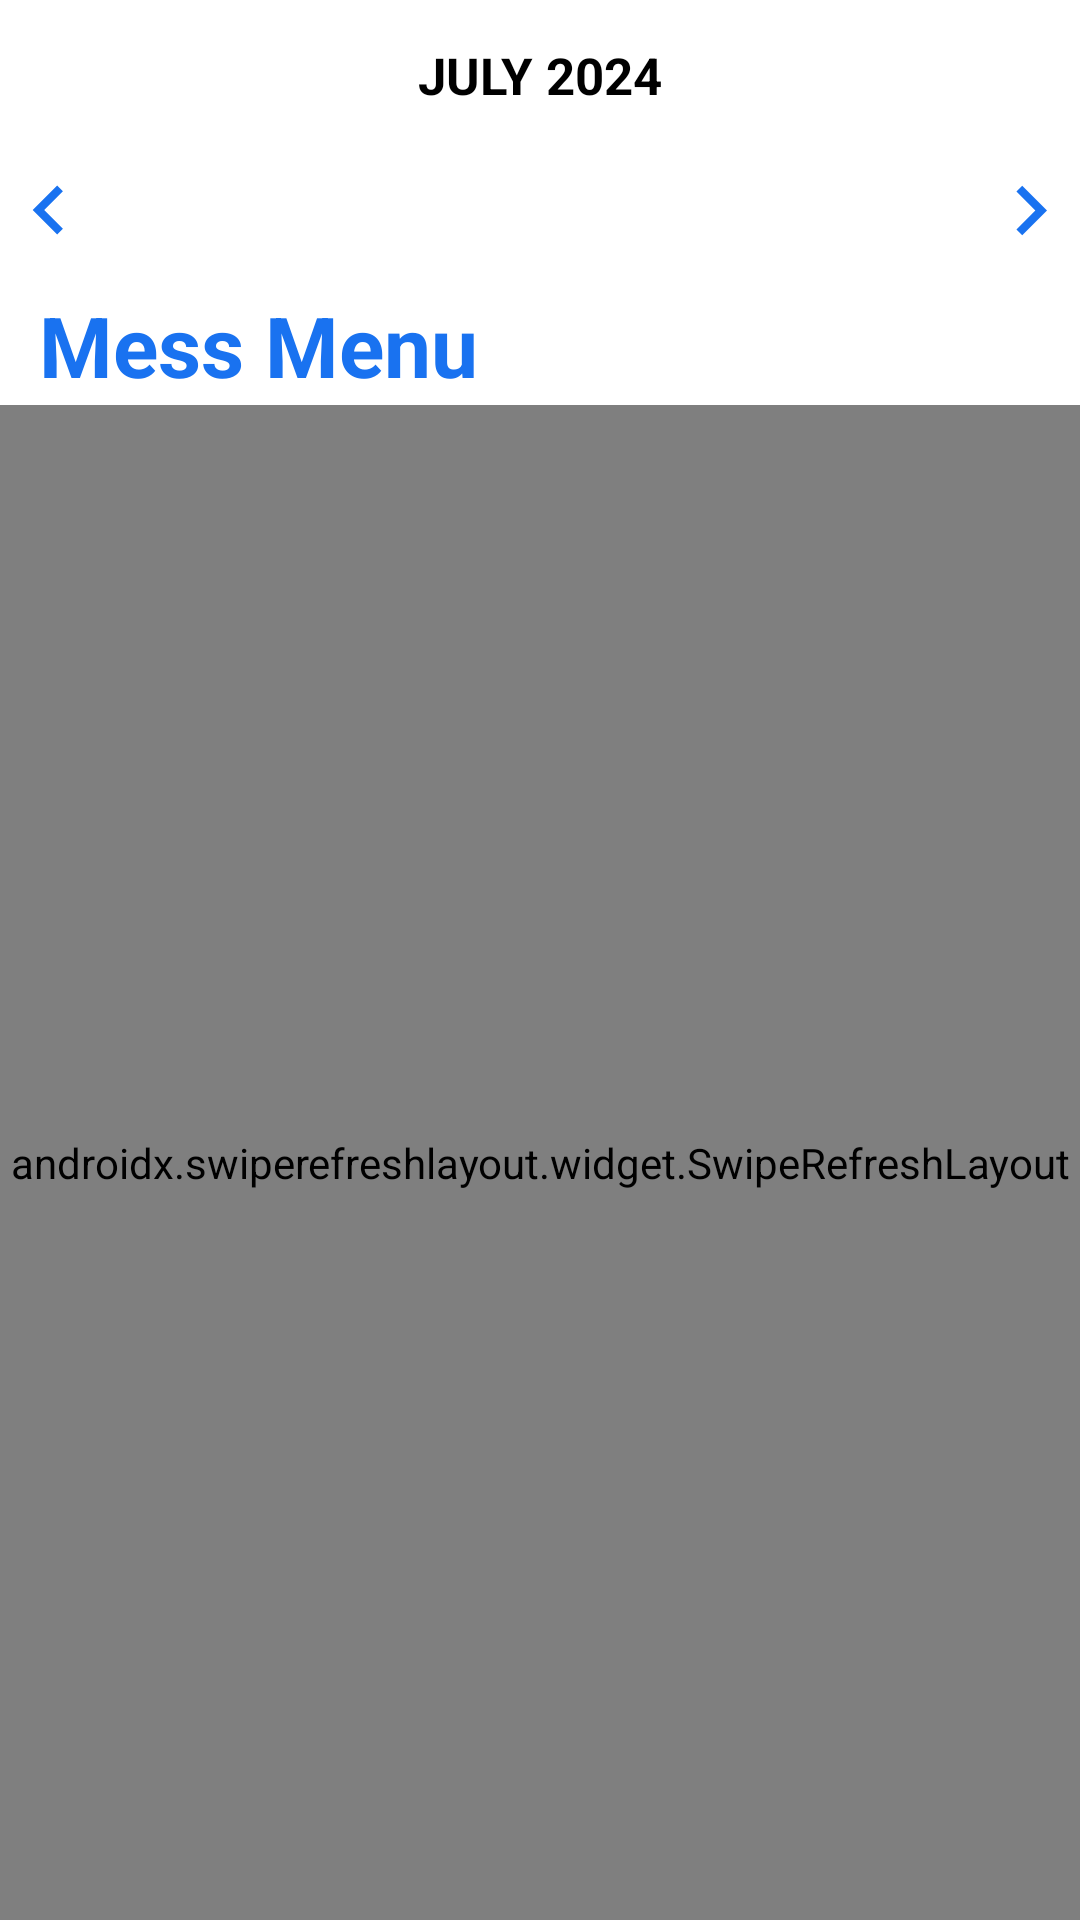

Screen size 1080 × 1920. Icon name, then its center in pixels as [x,y]:
keyboard arrow left: [48,210]
keyboard arrow right: [1031,210]
